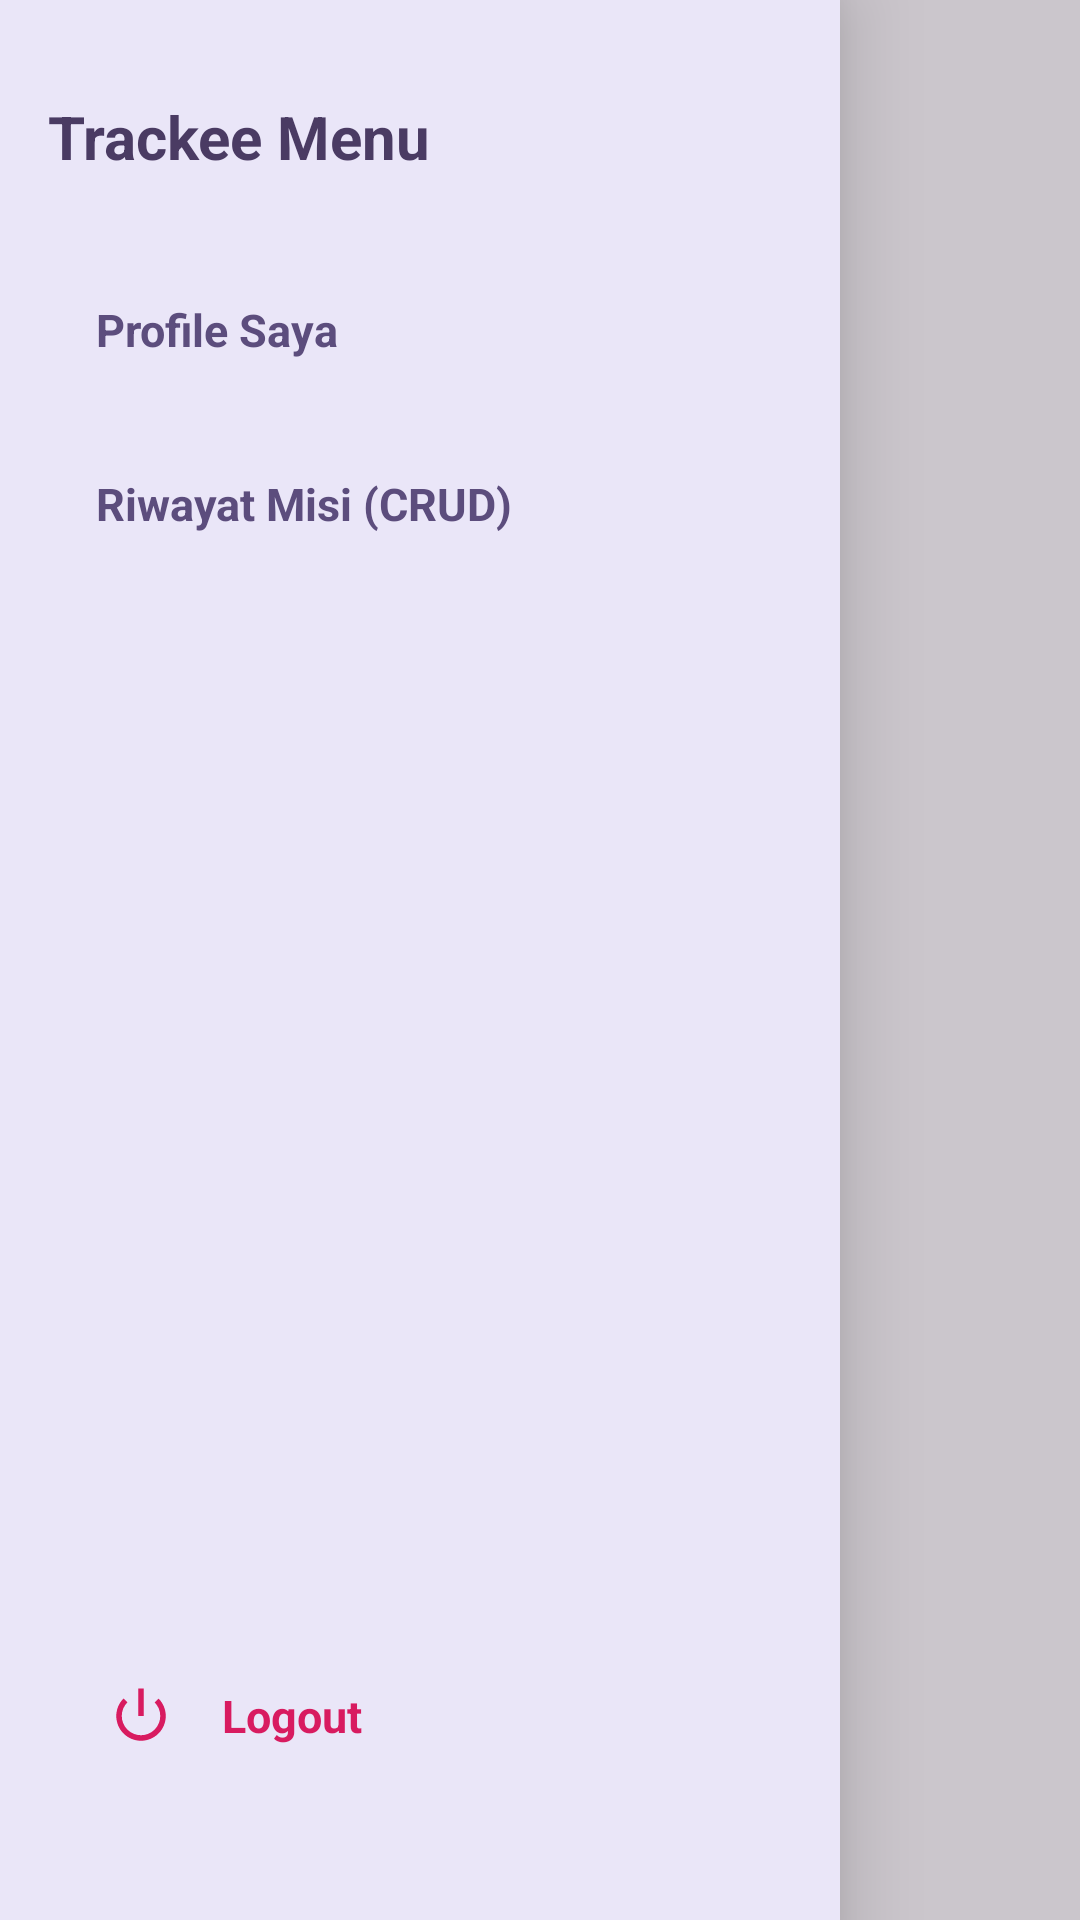

Icons on this 1080×1920 Android screen, each with the point to tap as (x=x, y=y):
lock power off: (x=141, y=1714)
